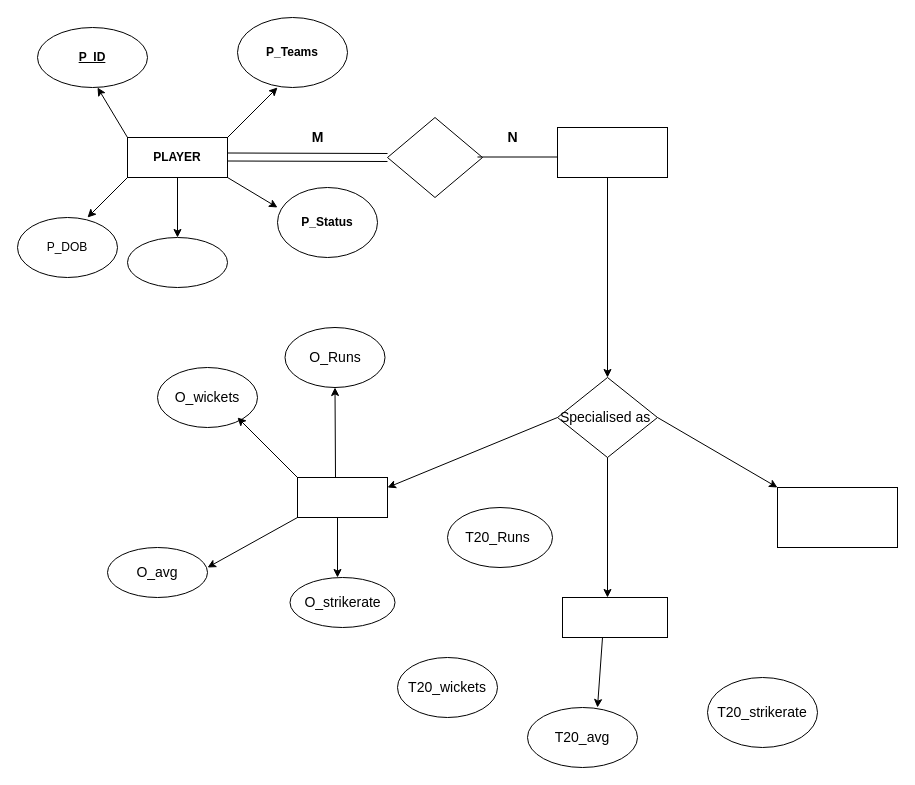
Some shapes in this 915 by 785 pixel diagram are drawn without their labels. Here are the shapes that lost their labels. From the top down, the box of each, then its label:
(386, 116, 482, 198): Playing in
(556, 126, 668, 178): Format
(126, 236, 228, 288): P_country
(296, 476, 388, 518): ODI
(776, 486, 898, 548): Test
(562, 596, 668, 638): T20
